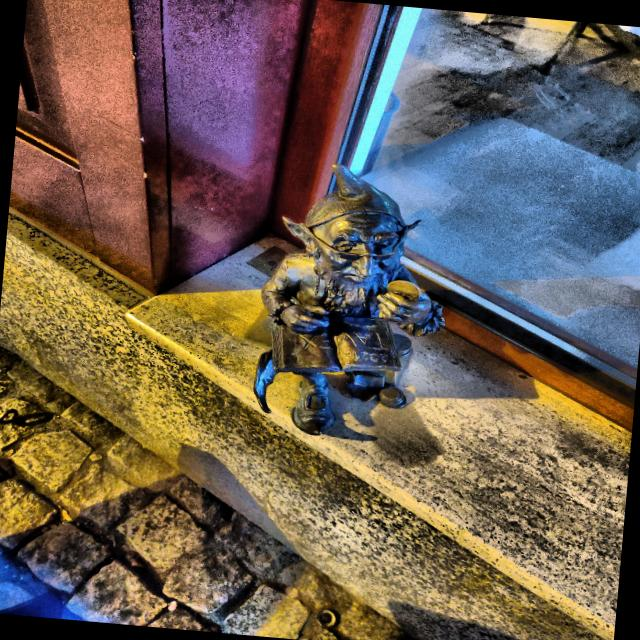Gaugan: (246, 164, 444, 436)
